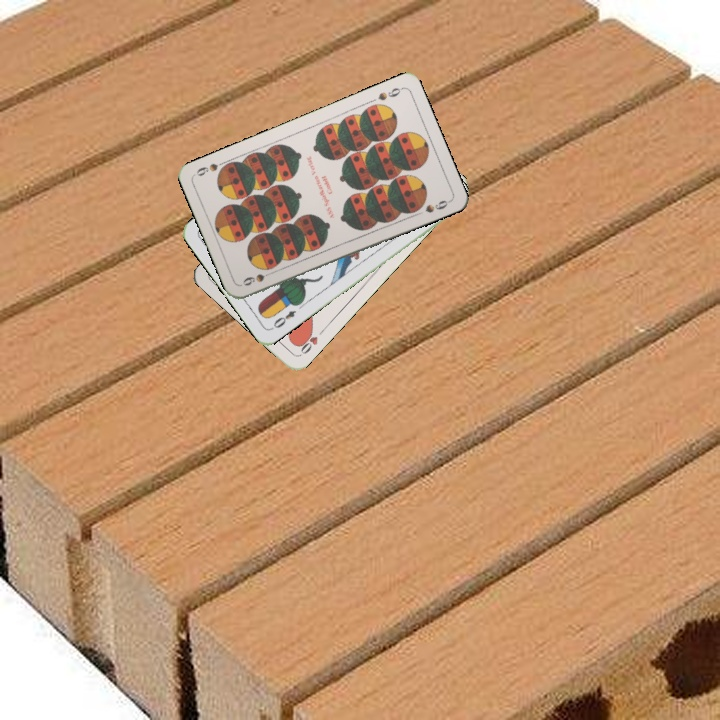EO: (267, 306, 299, 332)
HO: (294, 324, 327, 358)
S9: (239, 267, 277, 288), (374, 83, 405, 103)
